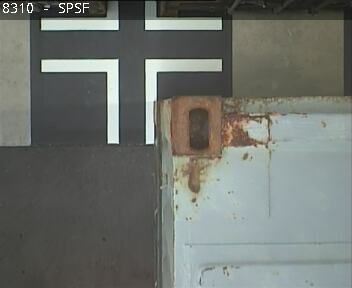groundmarker_1: (41, 57, 222, 145)
